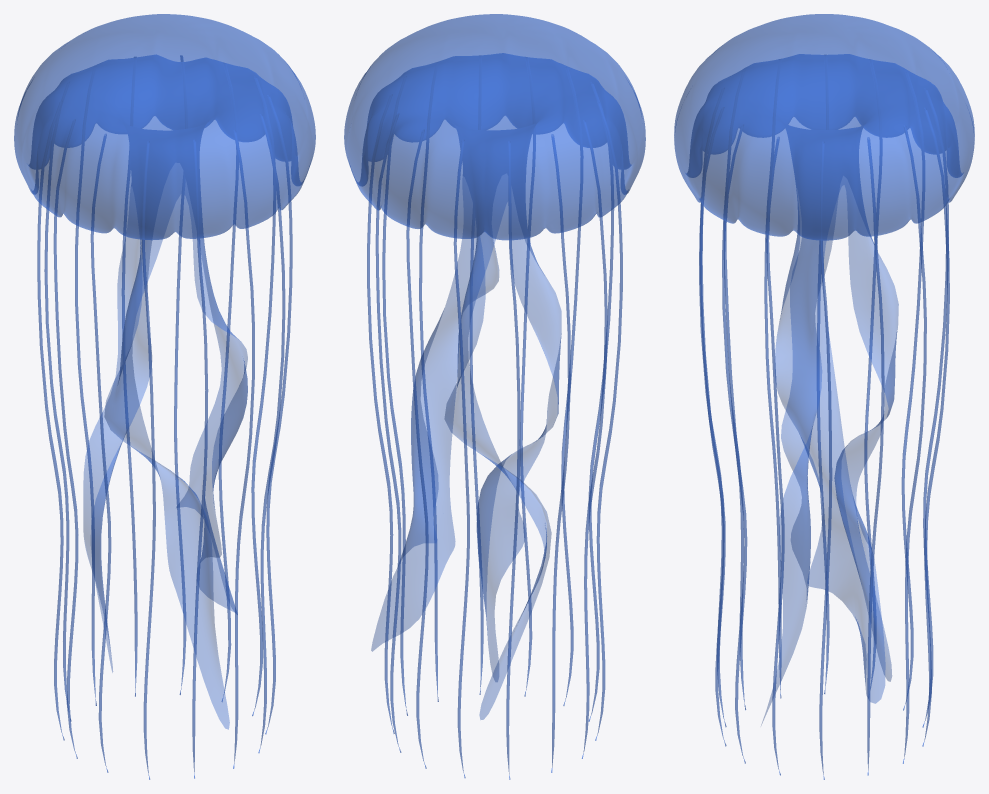
Rendered from exotic_blue_jellyfish.glb.
3 renders of one model, left to right at view 1: azimuth 30°, elevation 25°; view 2: azimuth 150°, elevation 25°; view 3: azimuth 270°, elevation 25°, orthographic.
Parts seen in each view (by area): view 1: Cylinder.002, BezierCurve.002; view 2: Cylinder.002, BezierCurve.002; view 3: Cylinder.002, BezierCurve.002.
Boxes of the visible parts, x1=… form: Cylinder.002: x1=14, y1=14, x2=315, y2=729; BezierCurve.002: x1=37, y1=55, x2=292, y2=779; Cylinder.002: x1=344, y1=14, x2=645, y2=719; BezierCurve.002: x1=367, y1=55, x2=622, y2=779; Cylinder.002: x1=674, y1=14, x2=974, y2=725; BezierCurve.002: x1=699, y1=55, x2=949, y2=779.
Bounding box in the file's own units: 1.03 × 2.66 × 1.03.
